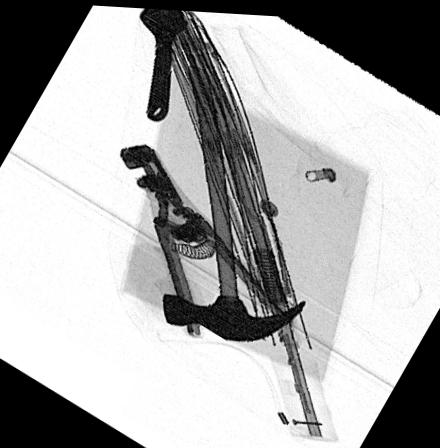Hammer: (160, 65, 311, 339)
Pliers: (118, 138, 289, 334)
Wrench: (136, 7, 189, 122)
